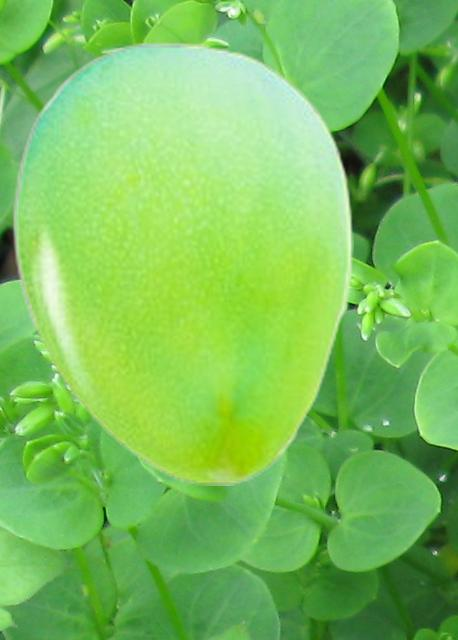green_mango: (11, 41, 352, 484)
